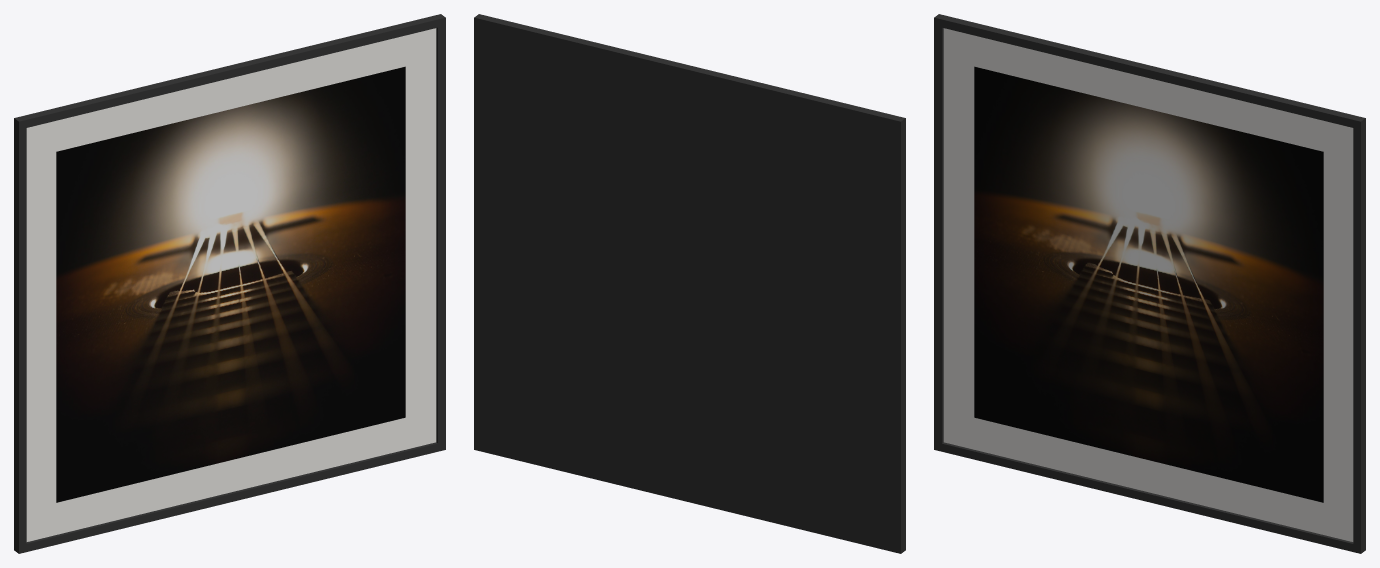
The model's file is strangarna-90.gltf.
3 views of the same model, side by side, from view 1: azimuth 30°, elevation 25°; view 2: azimuth 150°, elevation 25°; view 3: azimuth 330°, elevation 25° (orthographic).
Visible parts, largest first — view 1: tavla; view 2: tavla; view 3: tavla.
Boxes of the visible parts, x1=… form: tavla: x1=14, y1=14, x2=445, y2=553; tavla: x1=474, y1=14, x2=905, y2=553; tavla: x1=934, y1=14, x2=1365, y2=553.
Bounding box in the file's own units: 1.1 × 1.06 × 0.022.
3 materials, 1 textured.
